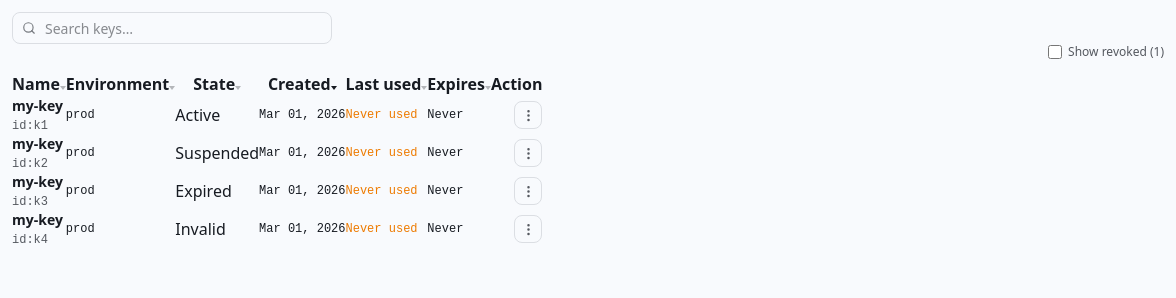
Test: KeysTable — populated table › renders the State badge for each of the five effective states (revoked shown via the toggle)
The width and height of the screenshot is (1176, 298).
# Revoked is hidden by default — reveal it via the toggle.
Click the checkbox labelled "Show revoked (1)".
click(1055, 52)  # box x1=1048 y1=45 x2=1062 y2=59
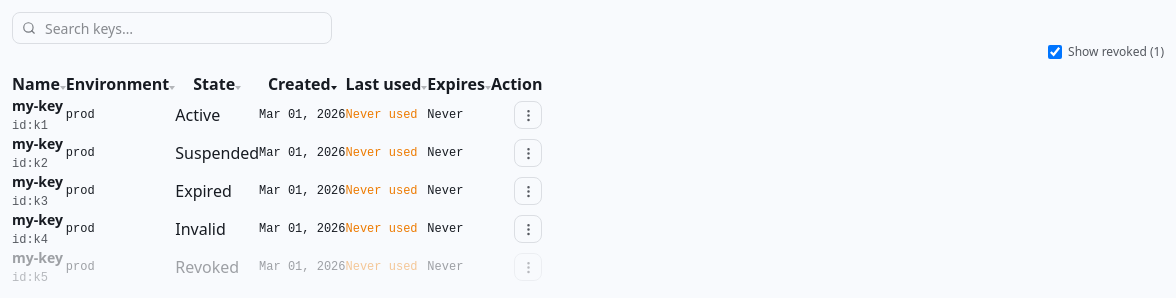
Check: the text "Active" is shown, box x1=175 y1=104 x2=220 y2=126
Check: the text "Revoked" is shown, box x1=175 y1=256 x2=239 y2=278
